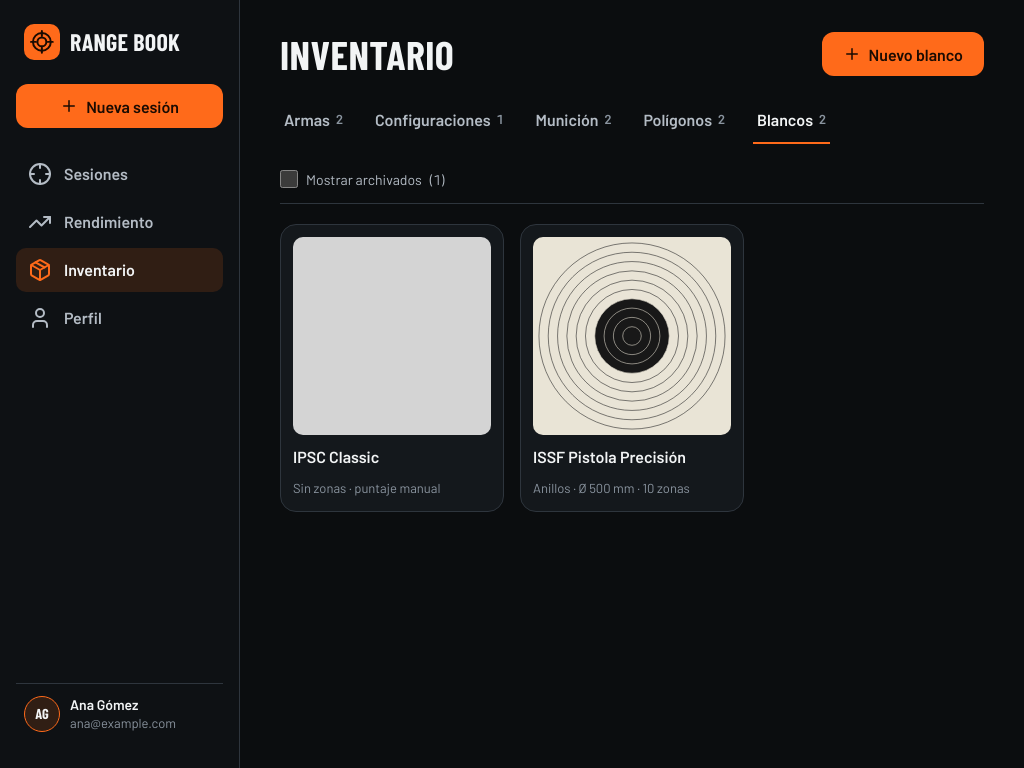
Test: Inventario: blancos › con "Mostrar archivados" aparece el archivado y se puede restaurar
The image size is (1024, 768).
Click the checkbox labelled "Mostrar archivados (1)": [289, 179] box left=280, top=170, right=298, bottom=188
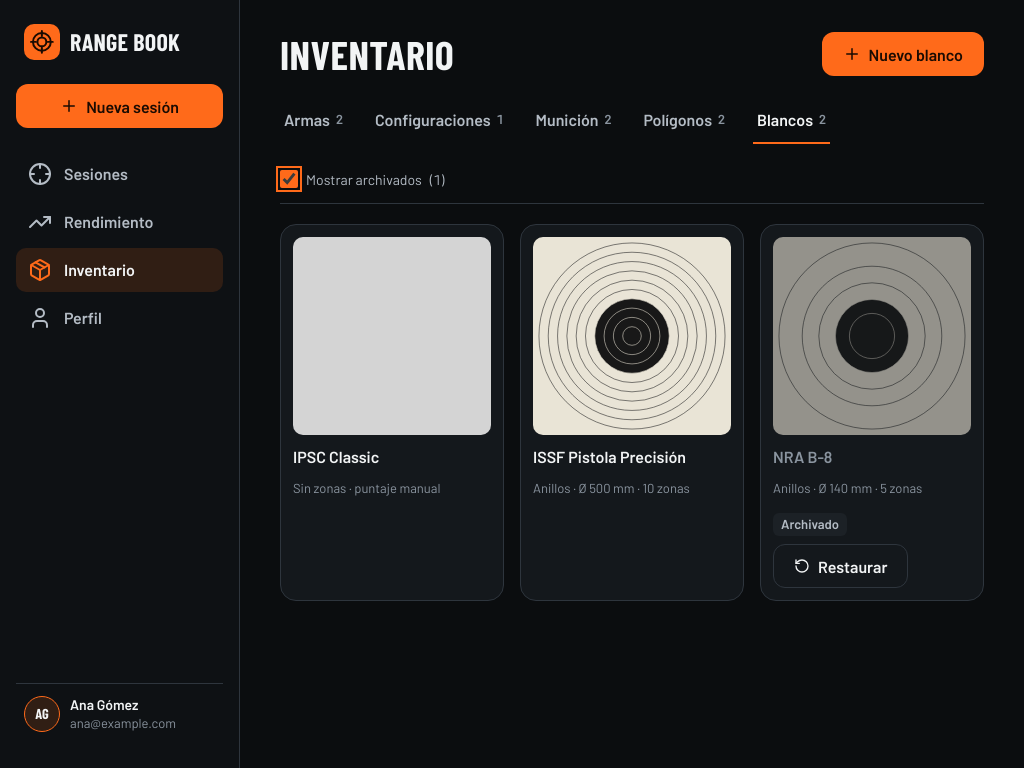
expect the text "NRA B-8" is shown: met, box left=773, top=447, right=832, bottom=466
expect the text "Archivado" is shown: met, box left=773, top=512, right=847, bottom=536
Click the button with aria-label "Restaurar NRA B-8": [841, 566] box left=773, top=544, right=908, bottom=588
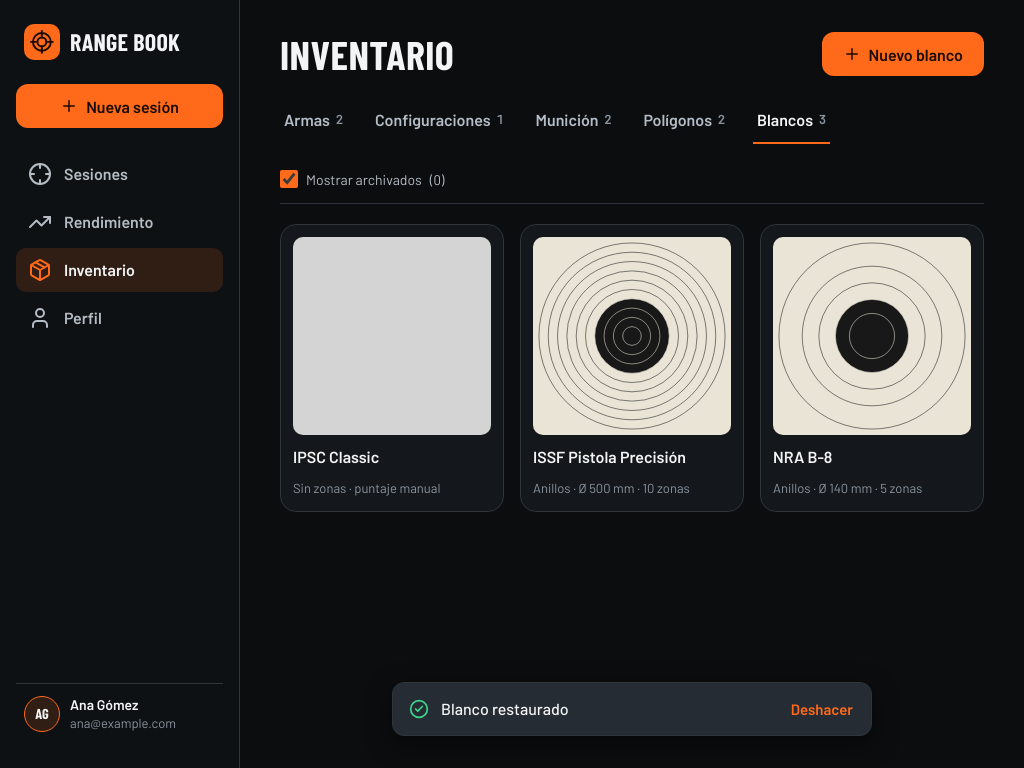
expect the text "Blanco restaurado" is shown: met, box left=441, top=699, right=569, bottom=718
